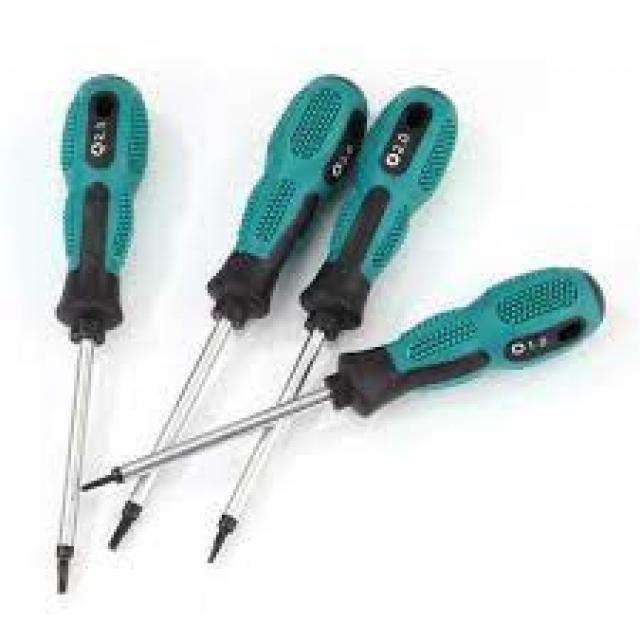screwdriver: (102, 70, 367, 556), (200, 81, 457, 568), (71, 264, 609, 494), (46, 60, 150, 598)
